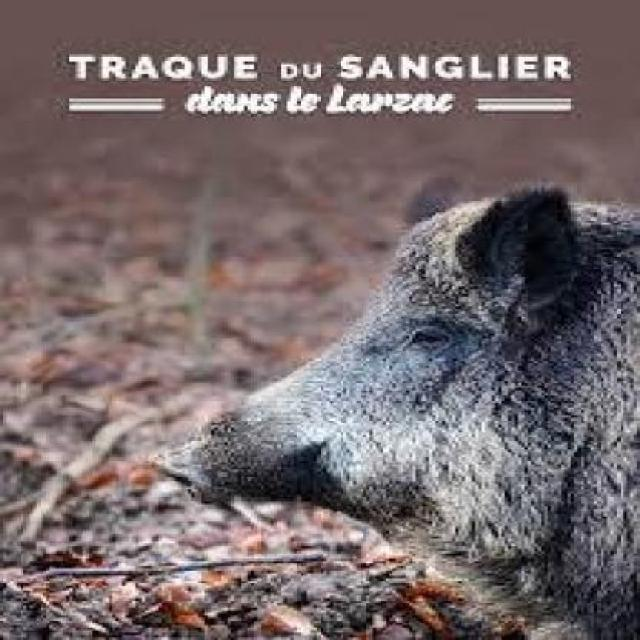wildboar: (141, 164, 640, 640)
